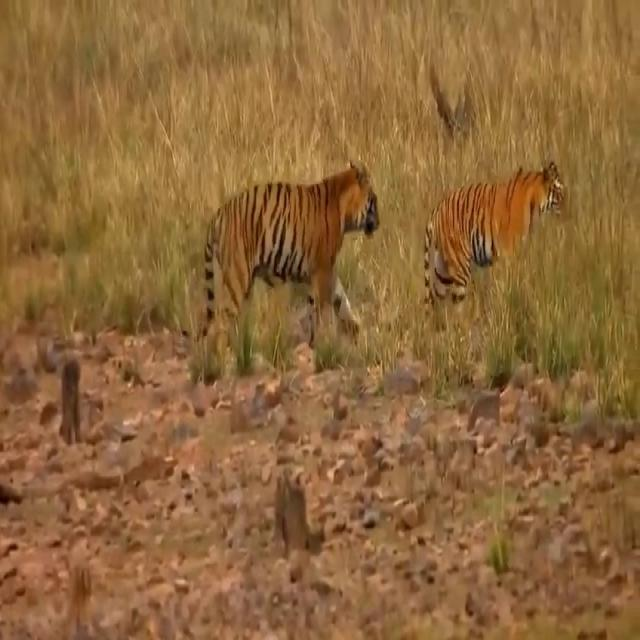tiger: (182, 157, 380, 350), (422, 160, 566, 313)
